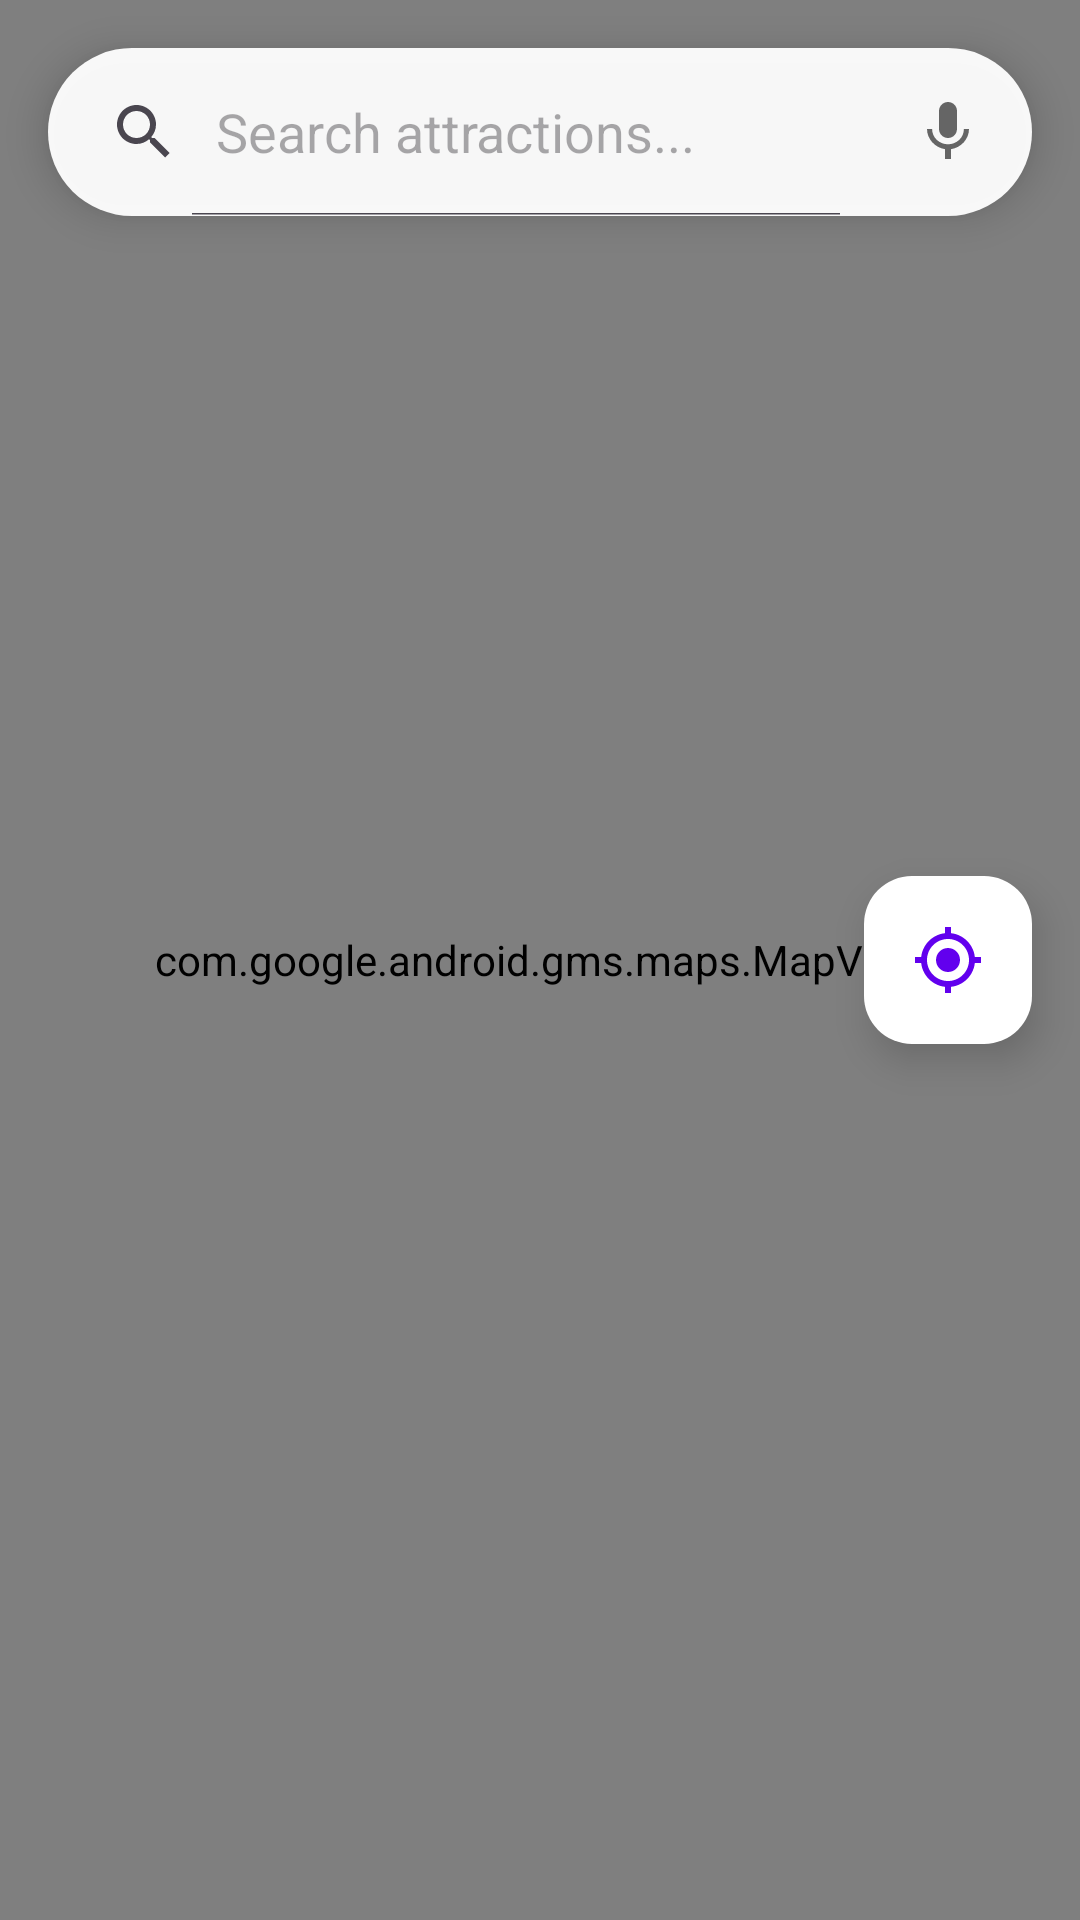

Screen size 1080px×1920px. Icon name, then its box in pixels as (x1, y1, x2, y2):
My Location: (864, 876, 1032, 1044)
Voice Search: (864, 48, 1032, 216)
